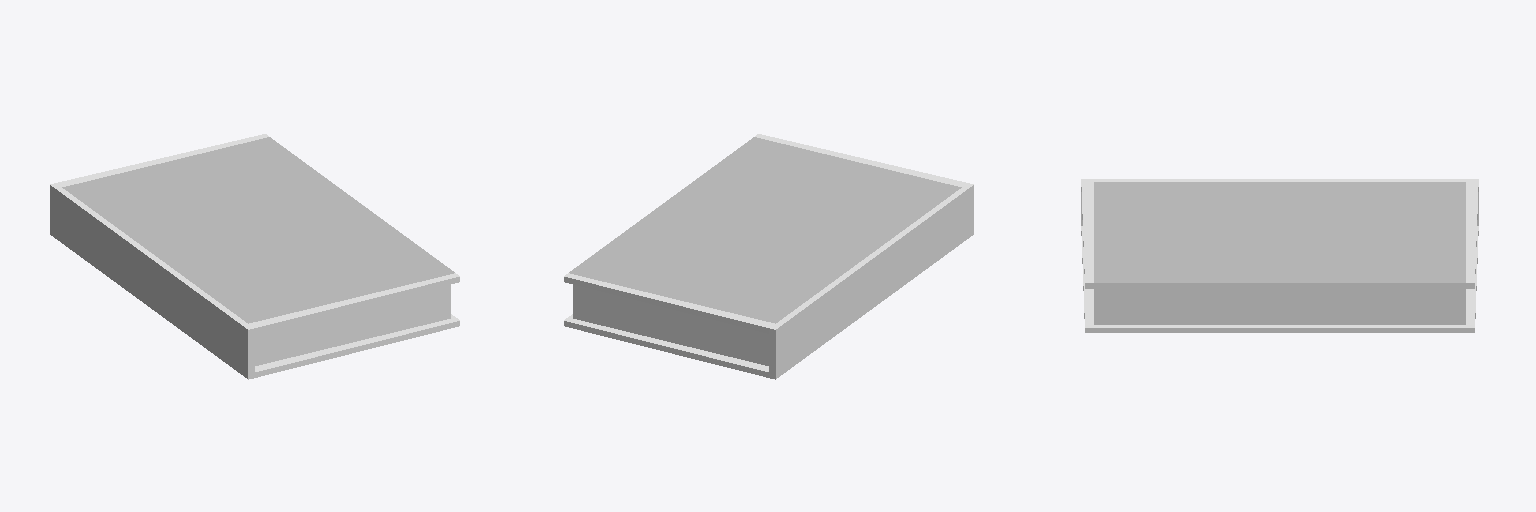
File: BookdeJaptor01.obj
3 views of the same model, side by side, from view 1: azimuth 30°, elevation 25°; view 2: azimuth 150°, elevation 25°; view 3: azimuth 270°, elevation 25° (orthographic).
Parts seen in each view (by area): view 1: Plane; view 2: Plane; view 3: Plane.
Boxes of the visible parts, x1,y1,x2,y2 form: Plane: [50, 134, 459, 379]; Plane: [564, 134, 973, 379]; Plane: [1081, 179, 1478, 332].
Bounding box in the file's own units: 1.97 × 0.4393 × 3.17.